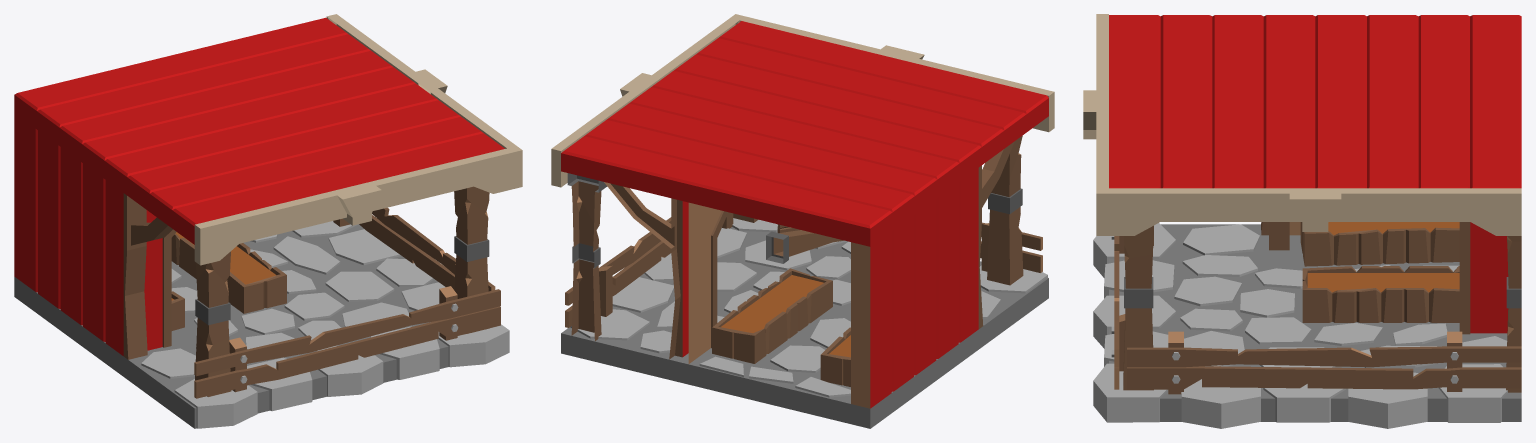
File: Farm_Lvl_02_Corner_Left.fbx
3 views of the same model, side by side, from view 1: azimuth 30°, elevation 25°; view 2: azimuth 150°, elevation 25°; view 3: azimuth 270°, elevation 25° (orthographic). The views are drawn at different scales.
Parts seen in each view (by area): view 1: Farm_Lvl_02_Corner_Left; view 2: Farm_Lvl_02_Corner_Left; view 3: Farm_Lvl_02_Corner_Left.
Boxes of the visible parts, x1=… form: Farm_Lvl_02_Corner_Left: x1=14, y1=14, x2=522, y2=428; Farm_Lvl_02_Corner_Left: x1=551, y1=14, x2=1054, y2=428; Farm_Lvl_02_Corner_Left: x1=1083, y1=14, x2=1521, y2=428.
Size of the model in its own units: 8.5 by 5 by 8.5.
